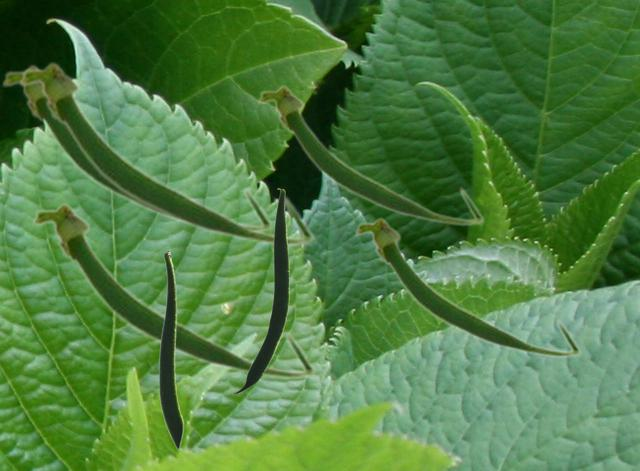french_bean: (17, 59, 315, 247), (30, 200, 316, 380), (0, 62, 273, 231), (353, 215, 581, 358), (256, 83, 484, 226), (232, 188, 288, 393), (158, 249, 183, 449)
